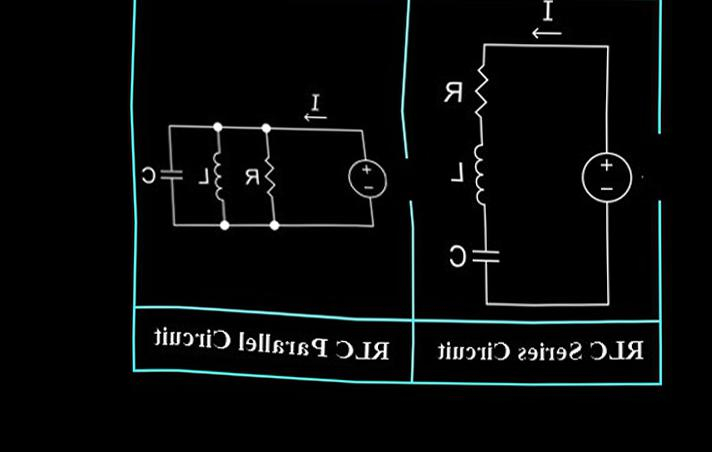Battery: (569, 137, 644, 214), (328, 145, 400, 204)
